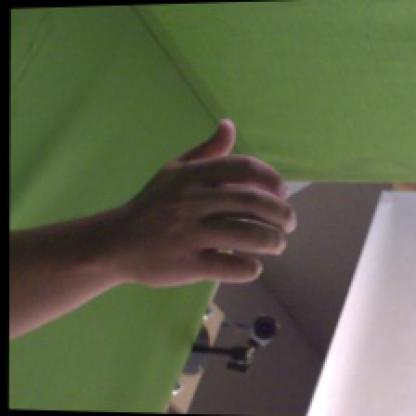Hand: (128, 121, 298, 286)
